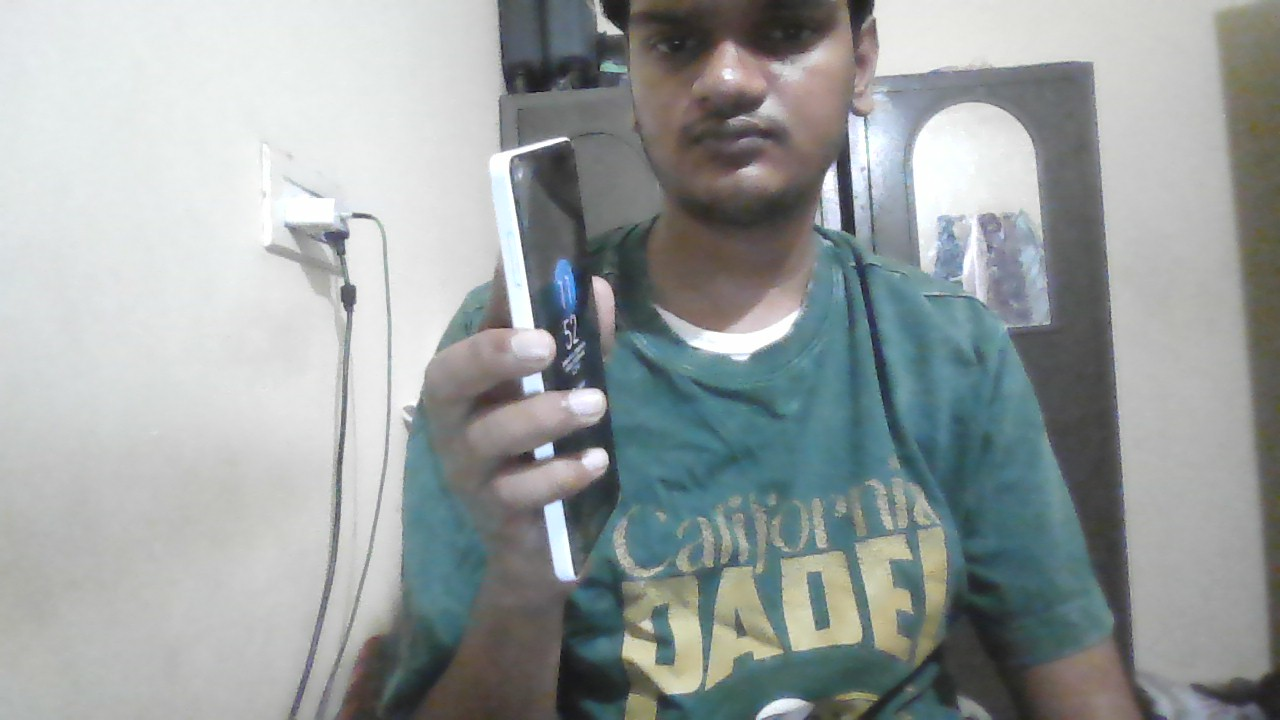phone: (487, 137, 616, 477)
